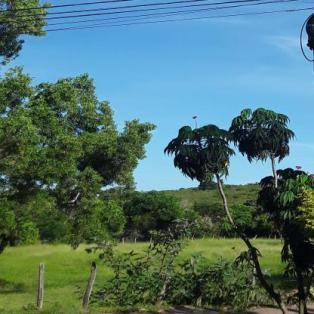Poste: (288, 0, 314, 314)
